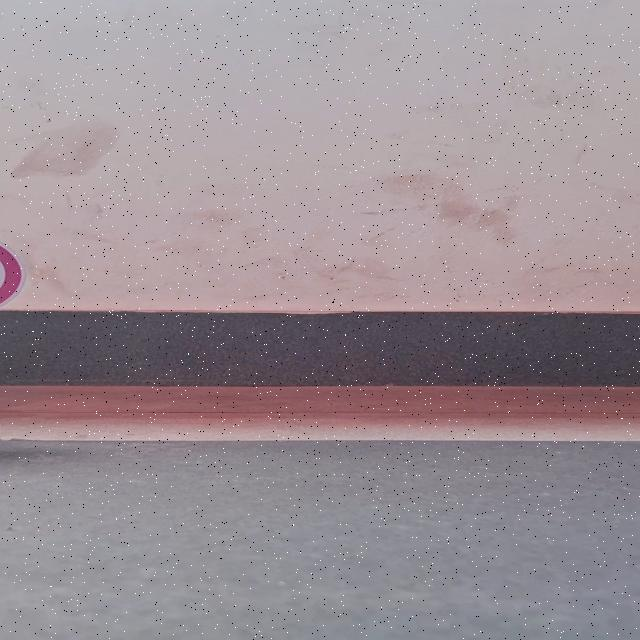Reject: (0, 224, 28, 325)
